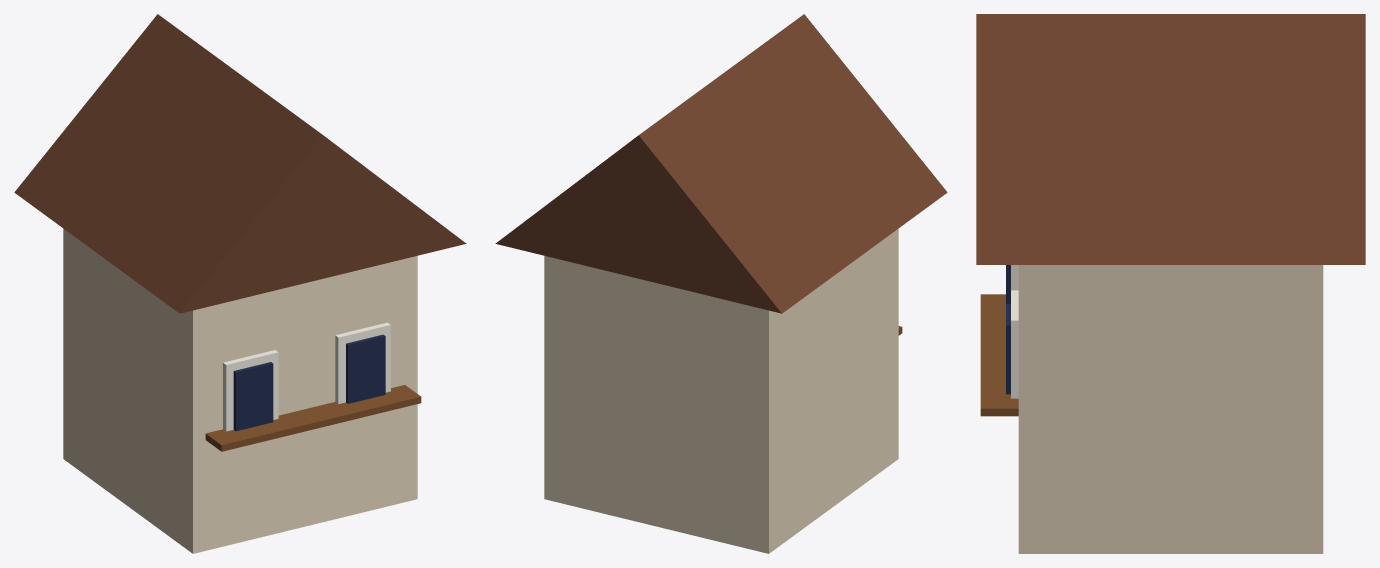
Rendered from willa_1.glb.
3 renders of one model, left to right at view 1: azimuth 30°, elevation 25°; view 2: azimuth 150°, elevation 25°; view 3: azimuth 270°, elevation 25°, orthographic. The views are drawn at different scales.
Parts seen in each view (by area): view 1: willa_1; view 2: willa_1; view 3: willa_1.
Part boxes in pixels (x1,y1,x2,y2): willa_1: [14, 14, 466, 553]; willa_1: [495, 14, 947, 553]; willa_1: [976, 14, 1365, 553].
Size of the model in its own units: 2.3 by 3.1 by 2.3.
